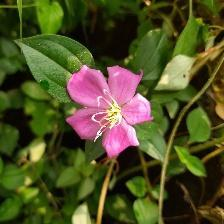malabar melastome: (64, 62, 158, 160)
